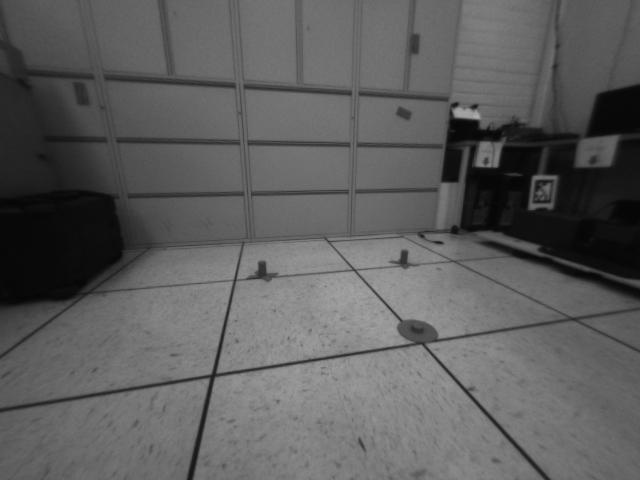X: (244, 260, 279, 283), (389, 249, 419, 272)
